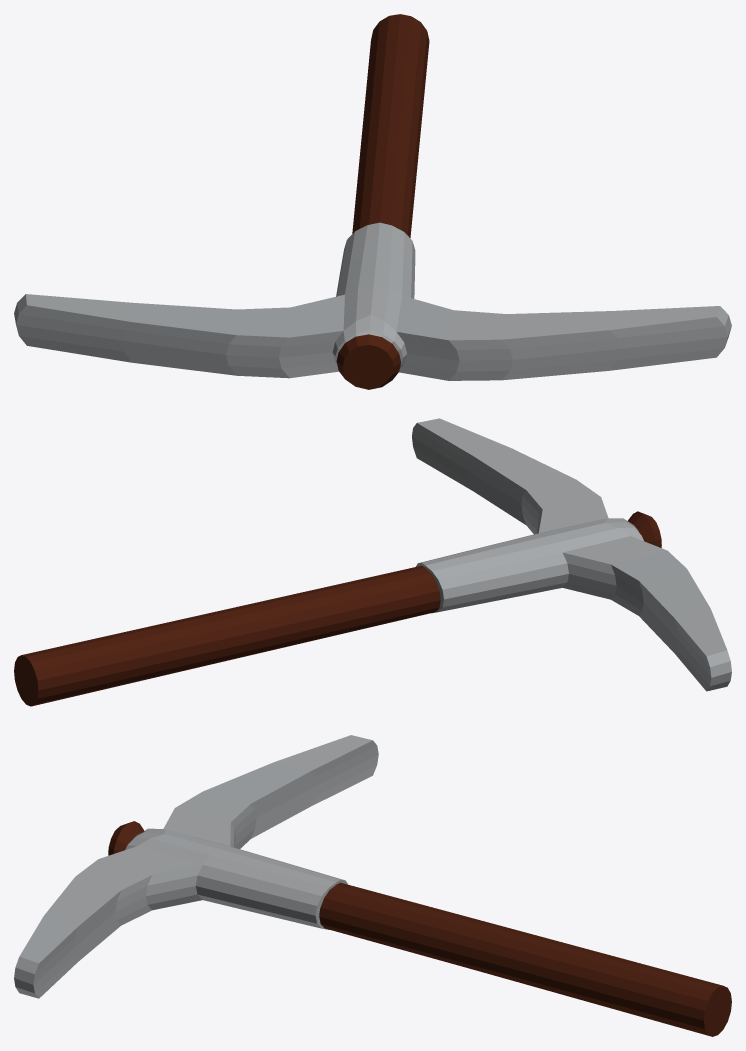
File: farm-pickaxe.fbx
3 renders of one model, top to bottom at view 1: azimuth 30°, elevation 25°; view 2: azimuth 150°, elevation 25°; view 3: azimuth 270°, elevation 25°, orthographic. The views are drawn at different scales.
Parts seen in each view (by area): view 1: Cylinder.375; view 2: Cylinder.375; view 3: Cylinder.375.
Boxes of the visible parts, left/top/right/bottom form: Cylinder.375: left=14, top=14, right=731, bottom=389; Cylinder.375: left=14, top=418, right=731, bottom=706; Cylinder.375: left=14, top=735, right=731, bottom=1036.
Bounding box in the file's own units: 165 × 15.76 × 188.
